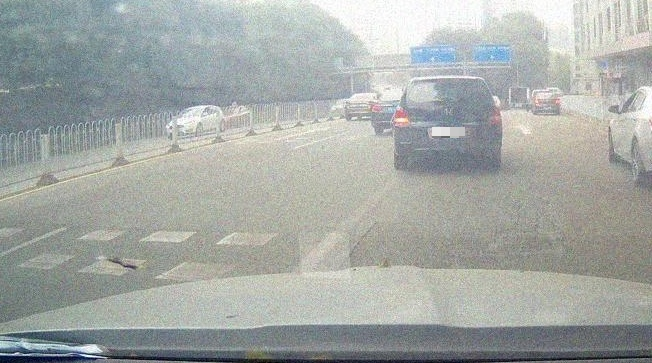L_light: (393, 106, 410, 127)
R_light: (489, 106, 501, 124)
T_light: (440, 80, 456, 82)
day-left: (393, 76, 502, 170)
plate_1: (432, 127, 465, 138)
